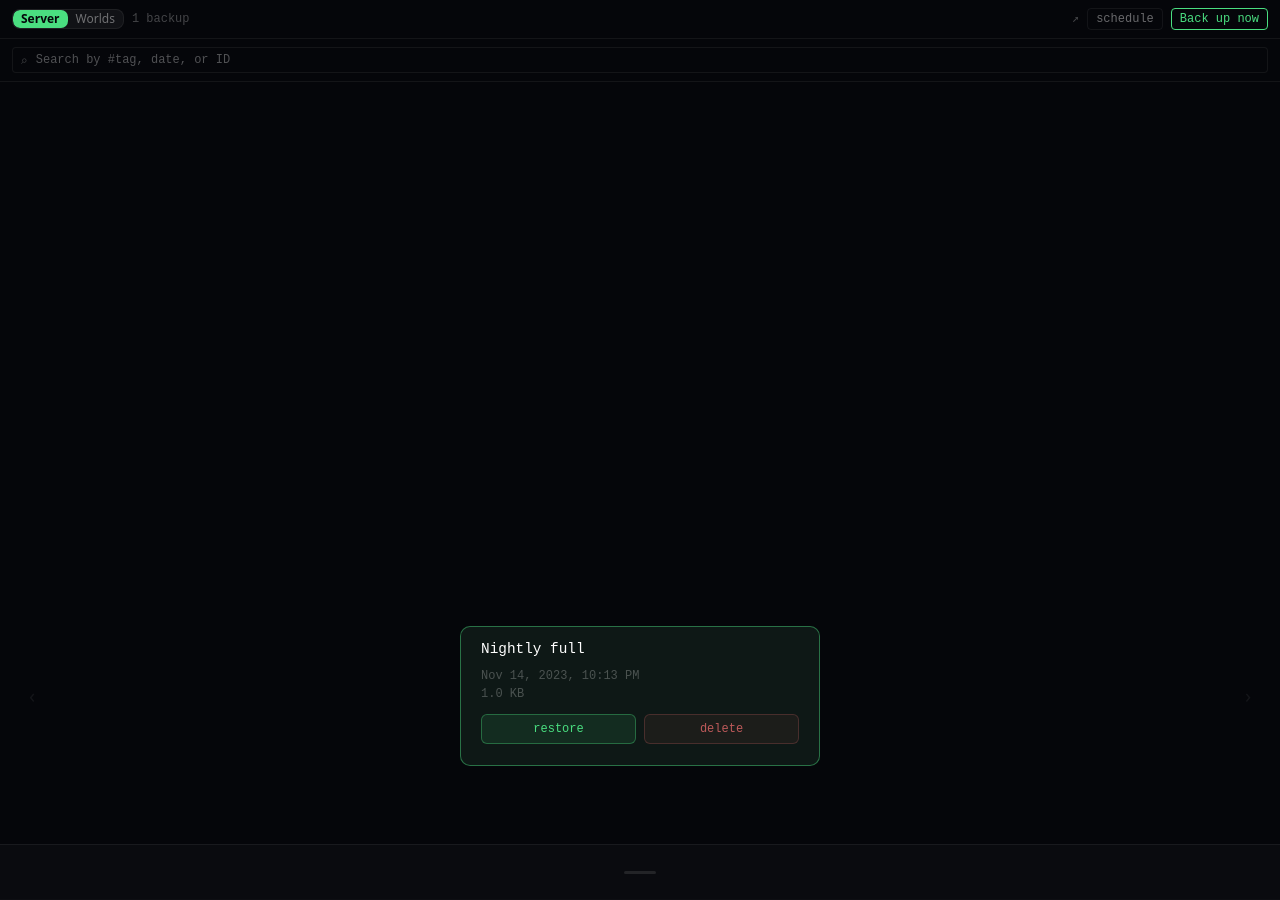
BackupsTile world view › lists world backups, each carrying its world name, and no server ones
The width and height of the screenshot is (1280, 900).
Click the button "Worlds".
click(95, 19)  # box [68, 10, 123, 28]
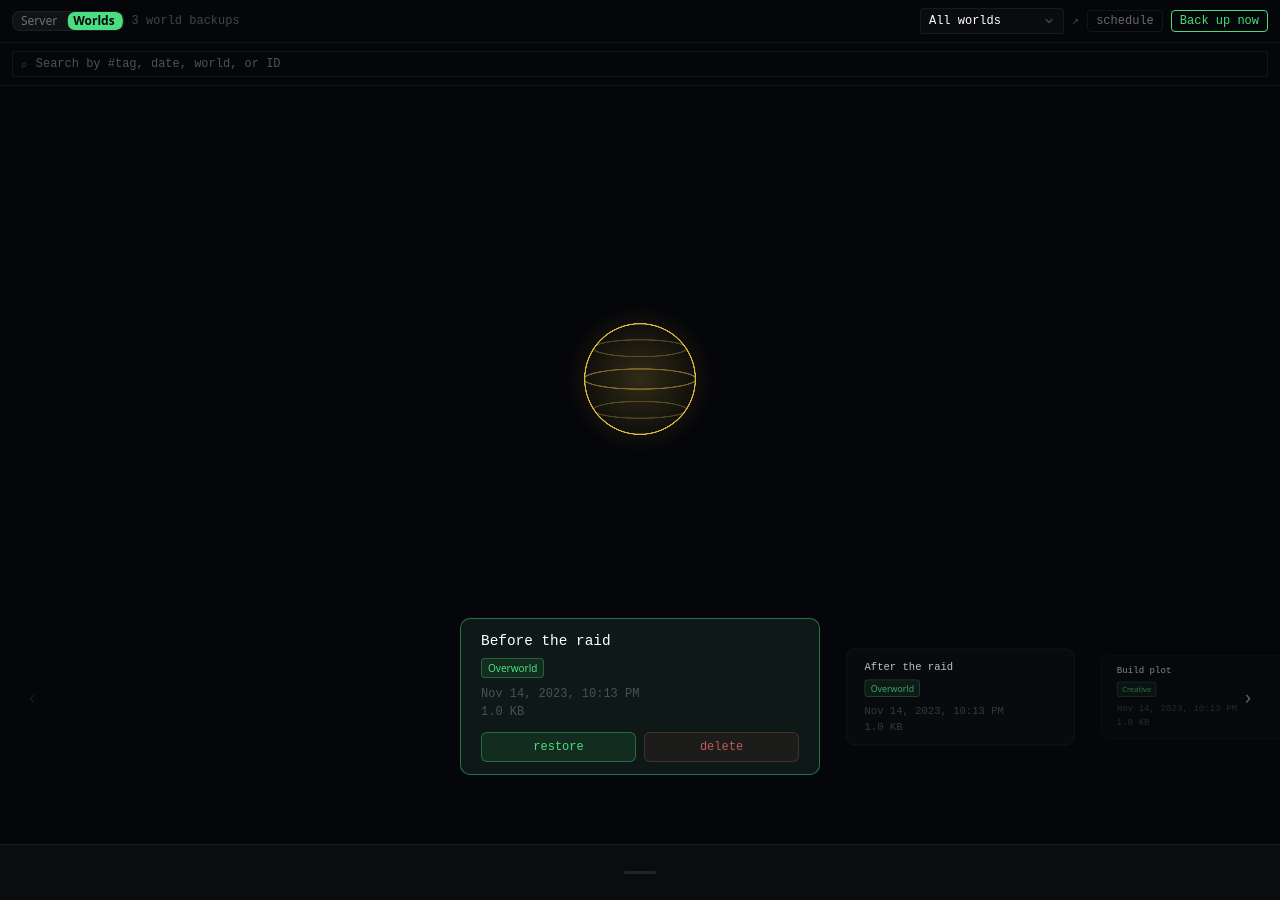
Expected: the text "3 world backups" is shown, [132, 14, 240, 28]
